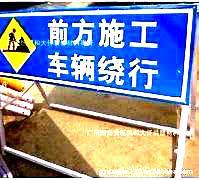sign: (1, 14, 189, 103)
